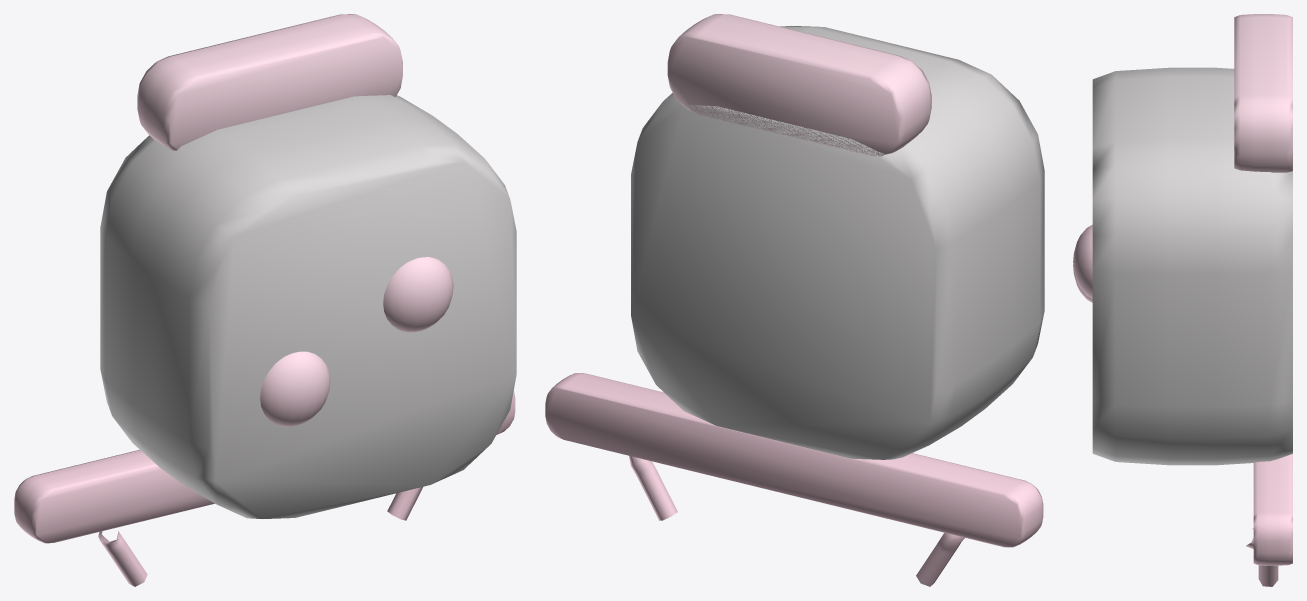
Rendered from decor_6_candy.glb.
3 views of the same model, side by side, from view 1: azimuth 30°, elevation 25°; view 2: azimuth 150°, elevation 25°; view 3: azimuth 270°, elevation 25° (orthographic). The views are drawn at different scales.
Visible parts, largest first — view 1: decor_6_candy; view 2: decor_6_candy; view 3: decor_6_candy.
Part boxes in pixels (x1=…): decor_6_candy: x1=14, y1=14, x2=516, y2=586; decor_6_candy: x1=545, y1=14, x2=1044, y2=586; decor_6_candy: x1=1073, y1=14, x2=1292, y2=586.
Size of the model in its own units: 7.86 by 7.92 by 3.36.
